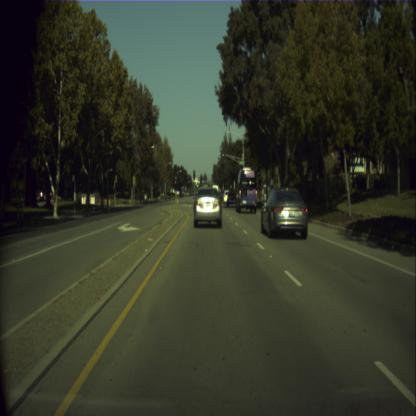Green: (257, 166, 260, 175), (224, 155, 225, 162)
Red: (193, 170, 195, 178)
Yellow: (174, 180, 176, 186)
